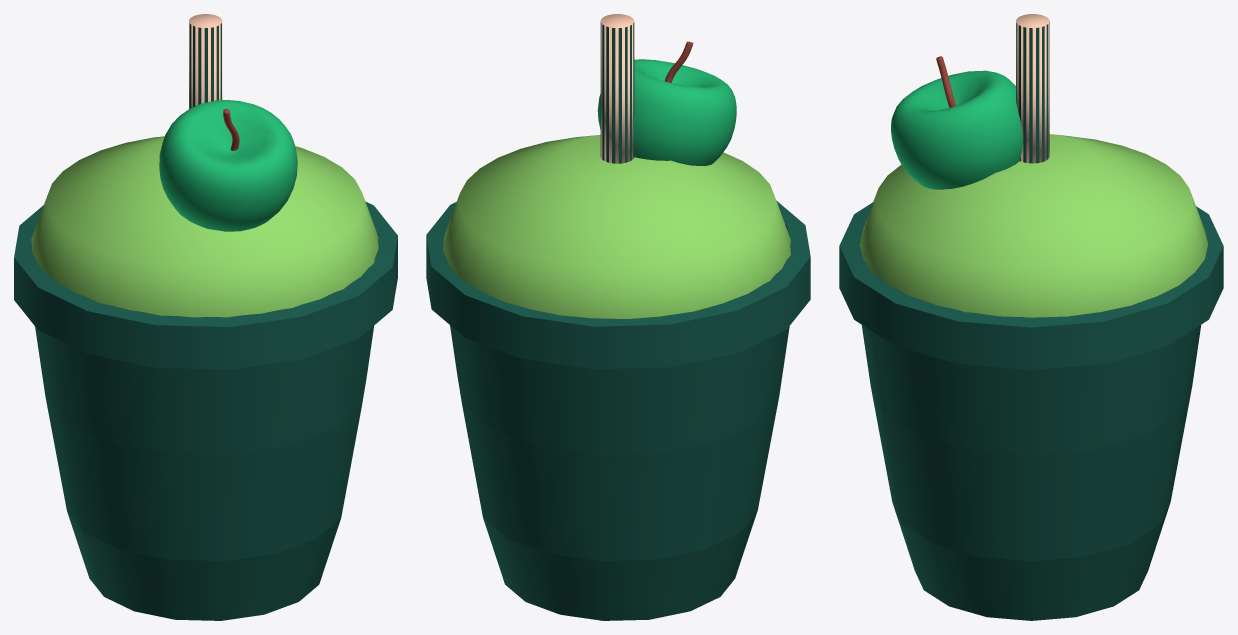
The model's file is shake-jablko.gltf.
3 renders of one model, left to right at view 1: azimuth 30°, elevation 25°; view 2: azimuth 150°, elevation 25°; view 3: azimuth 270°, elevation 25°, orthographic.
Parts seen in each view (by area): view 1: Cylinder, Cylinder.001, Sphere.002, Cylinder.002; view 2: Cylinder, Cylinder.001, Sphere.002, Cylinder.002; view 3: Cylinder, Cylinder.001, Sphere.002, Cylinder.002.
Boxes of the visible parts, bbox=[...] form: Cylinder: bbox=[14, 201, 397, 620]; Cylinder.001: bbox=[31, 136, 378, 317]; Sphere.002: bbox=[159, 100, 297, 231]; Cylinder.002: bbox=[189, 14, 222, 108]; Cylinder: bbox=[426, 200, 810, 620]; Cylinder.001: bbox=[443, 134, 790, 318]; Sphere.002: bbox=[597, 59, 736, 165]; Cylinder.002: bbox=[600, 14, 634, 163]; Cylinder: bbox=[839, 202, 1223, 620]; Cylinder.001: bbox=[859, 134, 1207, 317]; Sphere.002: bbox=[891, 70, 1023, 189]; Cylinder.002: bbox=[1016, 14, 1049, 163].
Size of the model in its own units: 1.37 by 2.21 by 1.36.
Materials: 1 (1 with a texture image).
